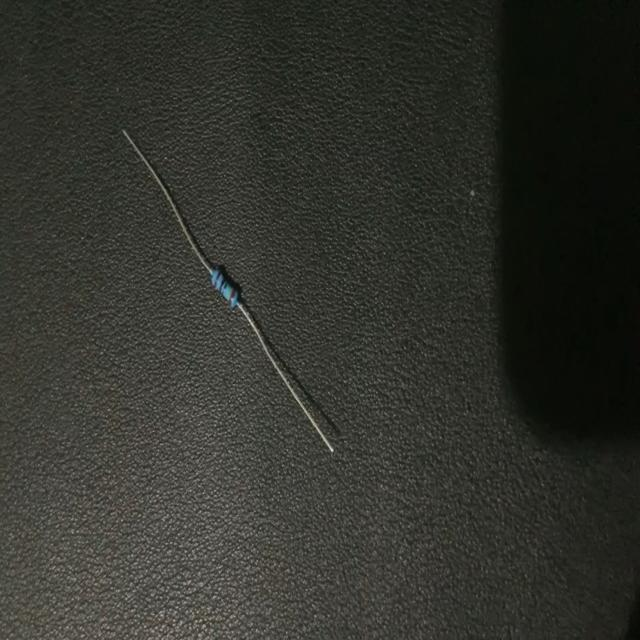resistor: (123, 130, 334, 457)
